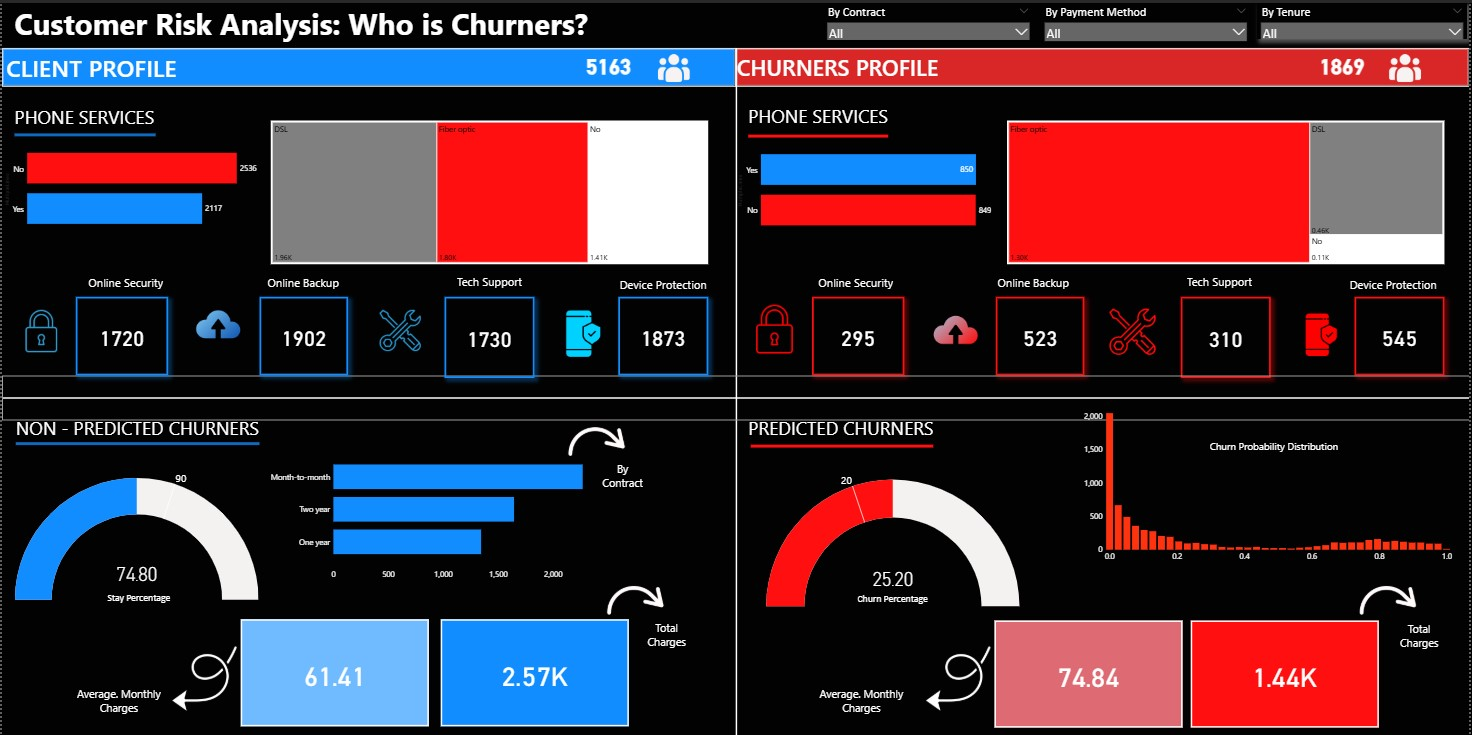

The page's visual inventory and layout, read from the dashboard file:
{"tool":"powerbi","page":{"name":"Page 2","canvas":[4000,2000],"ordinal":1},"visuals":[{"type":"shape","title":"Customer Risk Analysis: Who is Churners?","box":[34.1,0,2794.8,122.7],"z":0},{"type":"shape","box":[122.7,668,429.5,187.5],"z":0,"group":"g1"},{"type":"shape","box":[2113.2,668,429.5,187.5],"z":0,"group":"g2"},{"type":"card","fields":{"Values":["Count(Sheet1.customerID)"]},"box":[201.1,801,252.2,214.7],"z":0,"group":"g4"},{"type":"card","fields":{"Values":["Count(Sheet1.customerID)"]},"box":[2208.6,801,252.2,214.7],"z":0,"group":"g3"},{"type":"image","box":[2034.8,811.2,143.2,156.8],"z":0,"group":"g6"},{"type":"image","box":[34.1,831.6,146.6,126.1],"z":0,"group":"g5"},{"type":"card","fields":{"Values":["Avg(Sheet1.MonthlyCharges)"]},"box":[649.3,1681.1,513.1,292.1],"z":0,"group":"g7"},{"type":"card","fields":{"Values":["Avg(Sheet1.MonthlyCharges)"]},"box":[2706.2,1685.3,513.1,292.1],"z":0,"group":"g8"},{"type":"shape","title":"CLIENT PROFILE","box":[0,122.7,2000.7,105.7],"z":1000},{"type":"shape","box":[668,668,306.8,187.5],"z":1000,"group":"g1"},{"type":"shape","box":[2658.5,668,306.8,187.5],"z":1000,"group":"g2"},{"type":"image","box":[521.5,787.3,136.3,177.2],"z":1000,"group":"g5"},{"type":"card","fields":{"Values":["Count(Sheet1.customerID)"]},"box":[702.1,801,242,214.7],"z":1000,"group":"g4"},{"type":"image","box":[2532.4,801,136.3,180.6],"z":1000,"group":"g6"},{"type":"card","fields":{"Values":["Count(Sheet1.customerID)"]},"box":[2709.6,801,242,214.7],"z":1000,"group":"g3"},{"type":"card","fields":{"Values":["Avg(Sheet1.TotalCharges)"]},"box":[1196.2,1681.1,513.1,292.1],"z":1000,"group":"g7"},{"type":"card","fields":{"Values":["Avg(Sheet1.TotalCharges)"]},"box":[3241.8,1685.3,513.1,292.1],"z":1000,"group":"g8"},{"type":"shape","box":[1999.3,122.7,2000.7,105.7],"z":2000},{"type":"shape","box":[1175.9,664.6,306.8,190.9],"z":2000,"group":"g1"},{"type":"shape","box":[3166.4,664.6,306.8,190.9],"z":2000,"group":"g2"},{"type":"card","fields":{"Values":["Count(Sheet1.customerID)"]},"box":[1206.6,801,245.4,221.5],"z":2000,"group":"g4"},{"type":"card","fields":{"Values":["Count(Sheet1.customerID)"]},"box":[3214.1,801,245.4,221.5],"z":2000,"group":"g3"},{"type":"image","box":[2999.4,828.3,167,136.3],"z":2000,"group":"g6"},{"type":"image","box":[1002.1,831.6,167,122.7],"z":2000,"group":"g5"},{"type":"image","box":[2509.6,1732.7,197.7,221.5],"z":2000,"group":"g8"},{"type":"shape","box":[184.1,1830.7,269.3,143.2],"z":2000,"group":"g7"},{"type":"card","fields":{"Values":["Count(Sheet1.customerID)"]},"box":[1503.1,92,299.9,150],"z":3000},{"type":"shape","box":[1649.6,671.7,306.8,190.9],"z":3000,"group":"g1"},{"type":"shape","box":[3640.1,671.7,306.8,190.9],"z":3000,"group":"g2"},{"type":"card","fields":{"Values":["Count(Sheet1.customerID)"]},"box":[1680.3,801,245.4,214.7],"z":3000,"group":"g4"},{"type":"card","fields":{"Values":["Count(Sheet1.customerID)"]},"box":[3687.8,801,245.4,214.7],"z":3000,"group":"g3"},{"type":"image","box":[1516.7,824.8,136.3,153.4],"z":3000,"group":"g5"},{"type":"image","box":[3483.3,841.9,228.4,126.1],"z":3000,"group":"g6"},{"type":"image","box":[453.4,1731.9,197.7,221.5],"z":3000,"group":"g7"},{"type":"shape","box":[2209.7,1831.5,269.3,143.2],"z":3000,"group":"g8"},{"type":"card","fields":{"Values":["Count(Sheet1.customerID)"]},"box":[3503.8,92,299.9,150],"z":4000},{"type":"shape","box":[1622,1193.7,139.7,190.9],"z":4000,"group":"g9"},{"type":"shape","box":[1728,1624.9,168.5,191],"z":4000,"group":"g7"},{"type":"shape","box":[3781.1,1629.2,168.5,191],"z":4000,"group":"g8"},{"type":"image","box":[1724.6,112.5,214.7,129.5],"z":5000},{"type":"image","box":[1520.1,1049.8,202.2,292.1],"z":5000,"group":"g9"},{"type":"image","box":[1626.9,1482.6,202.2,292.1],"z":5000,"group":"g7"},{"type":"image","box":[3680,1483.1,202.2,292.1],"z":5000,"group":"g8"},{"type":"image","box":[3718.5,112.5,214.7,129.5],"z":6000},{"type":"shape","box":[1925.1,123.6,153.6,1876.4],"z":7000},{"type":"shape","title":"PHONE SERVICES","box":[33.7,277.2,569.3,168.5],"z":8000},{"type":"shape","title":"PHONE SERVICES","box":[2034.8,272.7,569.2,170.4],"z":9000},{"type":"shape","box":[34.1,214.7,385.1,289.7],"z":10000},{"type":"shape","box":[2034.8,218.1,381.7,289.7],"z":11000},{"type":"barChart","fields":{"Category":["Sheet1.MultipleLines"],"Y":["CountNonNull(Sheet1.customerID)"]},"box":[0,297.6,703.3,414.8],"z":12000},{"type":"treemap","fields":{"Group":["Sheet1.InternetService"],"Values":["CountNonNull(Sheet1.customerID)"]},"box":[732.8,320.4,1192.9,392],"z":13000},{"type":"group","id":"g1","title":"Group 1","box":[122.7,664.6,1833.7,197.7],"z":14000},{"type":"barChart","fields":{"Category":["Sheet1.MultipleLines"],"Y":["CountNonNull(Sheet1.customerID)"]},"box":[2000.7,299.9,702.1,415.8],"z":15000},{"type":"treemap","fields":{"Group":["Sheet1.InternetService"],"Values":["CountNonNull(Sheet1.customerID)"]},"box":[2740.3,320.4,1192.9,392],"z":16000},{"type":"group","id":"g2","title":"Group 1","box":[2113.2,664.6,1833.7,201.1],"z":17000},{"type":"group","id":"g3","title":"Group 2","box":[2208.6,801,1724.6,221.5],"z":18000},{"type":"shape","box":[0,1015.7,4001.4,122.7],"z":19000},{"type":"group","id":"g4","title":"Group 3","box":[201.1,801,1724.6,221.5],"z":20000},{"type":"group","id":"g5","title":"Group 4","box":[34.1,787.3,1619,190.9],"z":21000},{"type":"group","id":"g6","title":"Group 5","box":[2034.8,801,1676.9,180.6],"z":22000},{"type":"gauge","fields":{"Y":["Customer_predicted.Stay%"],"TargetValue":["Customer_predicted.StayTarget"]},"box":[30,1063.7,674.2,786.5],"z":23000},{"type":"gauge","fields":{"Y":["Customer_predicted.Churn%"],"TargetValue":["Customer_predicted.ChurnTarget"]},"box":[2078.7,1078.7,700.4,782.8],"z":24000},{"type":"lineClusteredColumnComboChart","title":"Churn Probability Distribution","fields":{"Category":["Customer_predicted.Churn_Probability (bins)"],"Y":["CountNonNull(Customer_predicted.customerID)"]},"box":[2943.8,1078.7,1015,456.9],"z":25000},{"type":"barChart","fields":{"Category":["Customer_predicted.Contract"],"Y":["CountNonNull(Customer_predicted.customerID)"]},"box":[716.9,1208.3,937.8,374.2],"z":26000},{"type":"shape","box":[231.8,1557.6,282.9,126.1],"z":27000},{"type":"shape","box":[2287,1561,282.9,126.1],"z":28000},{"type":"group","id":"g7","title":"Group 6","box":[184.1,1482.6,1711,490.8],"z":29000},{"type":"group","id":"g8","title":"Group 7","box":[2209.7,1483.1,1741.6,494.4],"z":30000},{"type":"shape","title":"NON - PREDICTED CHURNERS","box":[37.5,1124.8,766.9,170.4],"z":31000},{"type":"shape","title":"PREDICTED CHURNERS","box":[2034.8,1124.8,766.9,170.4],"z":32000},{"type":"shape","box":[37.5,1056.6,664.6,289.7],"z":33000},{"type":"shape","box":[2041.6,1063.4,497.6,289.7],"z":34000},{"type":"group","id":"g9","title":"Group 8","box":[1520.1,1049.8,241.6,334.8],"z":35000},{"type":"shape","box":[3108.4,1117.9,719.2,177.2],"z":36000},{"type":"slicer","fields":{"Values":["Customer_predicted.Contract"]},"box":[2239.7,0,573,101.1],"z":37000},{"type":"slicer","fields":{"Values":["Customer_predicted.TenureGroup"]},"box":[3422.1,0,572.6,99.2],"z":37001},{"type":"slicer","fields":{"Values":["Customer_predicted.PaymentMethod"]},"box":[2831.4,0,572.6,103.7],"z":37002}]}

Visuals, with their boxes in screenshot pixels (x1, y1, x2, y2), scaled from the page's 4000x2000 canvas onto the 1472x735 screenshot:
"Customer Risk Analysis: Who is Churners?" shape: <bbox>13, 0, 1041, 45</bbox>
shape: <bbox>45, 245, 203, 314</bbox>
shape: <bbox>778, 245, 936, 314</bbox>
card - Count(Sheet1.customerID): <bbox>74, 294, 167, 373</bbox>
card - Count(Sheet1.customerID): <bbox>813, 294, 906, 373</bbox>
image: <bbox>749, 298, 802, 356</bbox>
image: <bbox>13, 306, 66, 352</bbox>
card - Avg(Sheet1.MonthlyCharges): <bbox>239, 618, 428, 725</bbox>
card - Avg(Sheet1.MonthlyCharges): <bbox>996, 619, 1185, 727</bbox>
"CLIENT PROFILE" shape: <bbox>0, 45, 736, 84</bbox>
shape: <bbox>246, 245, 359, 314</bbox>
shape: <bbox>978, 245, 1091, 314</bbox>
image: <bbox>192, 289, 242, 354</bbox>
card - Count(Sheet1.customerID): <bbox>258, 294, 347, 373</bbox>
image: <bbox>932, 294, 982, 361</bbox>
card - Count(Sheet1.customerID): <bbox>997, 294, 1086, 373</bbox>
card - Avg(Sheet1.TotalCharges): <bbox>440, 618, 629, 725</bbox>
card - Avg(Sheet1.TotalCharges): <bbox>1193, 619, 1382, 727</bbox>
shape: <bbox>736, 45, 1471, 84</bbox>
shape: <bbox>433, 244, 546, 314</bbox>
shape: <bbox>1165, 244, 1278, 314</bbox>
card - Count(Sheet1.customerID): <bbox>444, 294, 534, 376</bbox>
card - Count(Sheet1.customerID): <bbox>1183, 294, 1273, 376</bbox>
image: <bbox>1104, 304, 1165, 354</bbox>
image: <bbox>369, 306, 430, 351</bbox>
image: <bbox>924, 637, 996, 718</bbox>
shape: <bbox>68, 673, 167, 725</bbox>
card - Count(Sheet1.customerID): <bbox>553, 34, 664, 89</bbox>
shape: <bbox>607, 247, 720, 317</bbox>
shape: <bbox>1340, 247, 1452, 317</bbox>
card - Count(Sheet1.customerID): <bbox>618, 294, 709, 373</bbox>
card - Count(Sheet1.customerID): <bbox>1357, 294, 1447, 373</bbox>
image: <bbox>558, 303, 608, 359</bbox>
image: <bbox>1282, 309, 1366, 356</bbox>
image: <bbox>167, 636, 240, 718</bbox>
shape: <bbox>813, 673, 912, 726</bbox>
card - Count(Sheet1.customerID): <bbox>1289, 34, 1400, 89</bbox>
shape: <bbox>597, 439, 648, 509</bbox>
shape: <bbox>636, 597, 698, 667</bbox>
shape: <bbox>1391, 599, 1453, 669</bbox>
image: <bbox>635, 41, 714, 89</bbox>
image: <bbox>559, 386, 634, 493</bbox>
image: <bbox>599, 545, 673, 652</bbox>
image: <bbox>1354, 545, 1429, 652</bbox>
image: <bbox>1368, 41, 1447, 89</bbox>
shape: <bbox>708, 45, 765, 734</bbox>
"PHONE SERVICES" shape: <bbox>12, 102, 222, 164</bbox>
"PHONE SERVICES" shape: <bbox>749, 100, 958, 163</bbox>
shape: <bbox>13, 79, 154, 185</bbox>
shape: <bbox>749, 80, 889, 187</bbox>
barChart - Sheet1.MultipleLines x CountNonNull(Sheet1.customerID): <bbox>0, 109, 259, 262</bbox>
treemap - Sheet1.InternetService x CountNonNull(Sheet1.customerID): <bbox>270, 118, 709, 262</bbox>
"Group 1" group: <bbox>45, 244, 720, 317</bbox>
barChart - Sheet1.MultipleLines x CountNonNull(Sheet1.customerID): <bbox>736, 110, 995, 263</bbox>
treemap - Sheet1.InternetService x CountNonNull(Sheet1.customerID): <bbox>1008, 118, 1447, 262</bbox>
"Group 1" group: <bbox>778, 244, 1452, 318</bbox>
"Group 2" group: <bbox>813, 294, 1447, 376</bbox>
shape: <bbox>0, 373, 1471, 418</bbox>
"Group 3" group: <bbox>74, 294, 709, 376</bbox>
"Group 4" group: <bbox>13, 289, 608, 359</bbox>
"Group 5" group: <bbox>749, 294, 1366, 361</bbox>
gauge - Customer_predicted.Stay% x Customer_predicted.StayTarget: <bbox>11, 391, 259, 680</bbox>
gauge - Customer_predicted.Churn% x Customer_predicted.ChurnTarget: <bbox>765, 396, 1023, 684</bbox>
"Churn Probability Distribution" lineClusteredColumnComboChart: <bbox>1083, 396, 1457, 564</bbox>
barChart - Customer_predicted.Contract x CountNonNull(Customer_predicted.customerID): <bbox>264, 444, 609, 582</bbox>
shape: <bbox>85, 572, 189, 619</bbox>
shape: <bbox>842, 574, 946, 620</bbox>
"Group 6" group: <bbox>68, 545, 697, 725</bbox>
"Group 7" group: <bbox>813, 545, 1454, 727</bbox>
"NON - PREDICTED CHURNERS" shape: <bbox>14, 413, 296, 476</bbox>
"PREDICTED CHURNERS" shape: <bbox>749, 413, 1031, 476</bbox>
shape: <bbox>14, 388, 258, 495</bbox>
shape: <bbox>751, 391, 934, 497</bbox>
"Group 8" group: <bbox>559, 386, 648, 509</bbox>
shape: <bbox>1144, 411, 1409, 476</bbox>
slicer - Customer_predicted.Contract: <bbox>824, 0, 1035, 37</bbox>
slicer - Customer_predicted.TenureGroup: <bbox>1259, 0, 1470, 36</bbox>
slicer - Customer_predicted.PaymentMethod: <bbox>1042, 0, 1253, 38</bbox>
